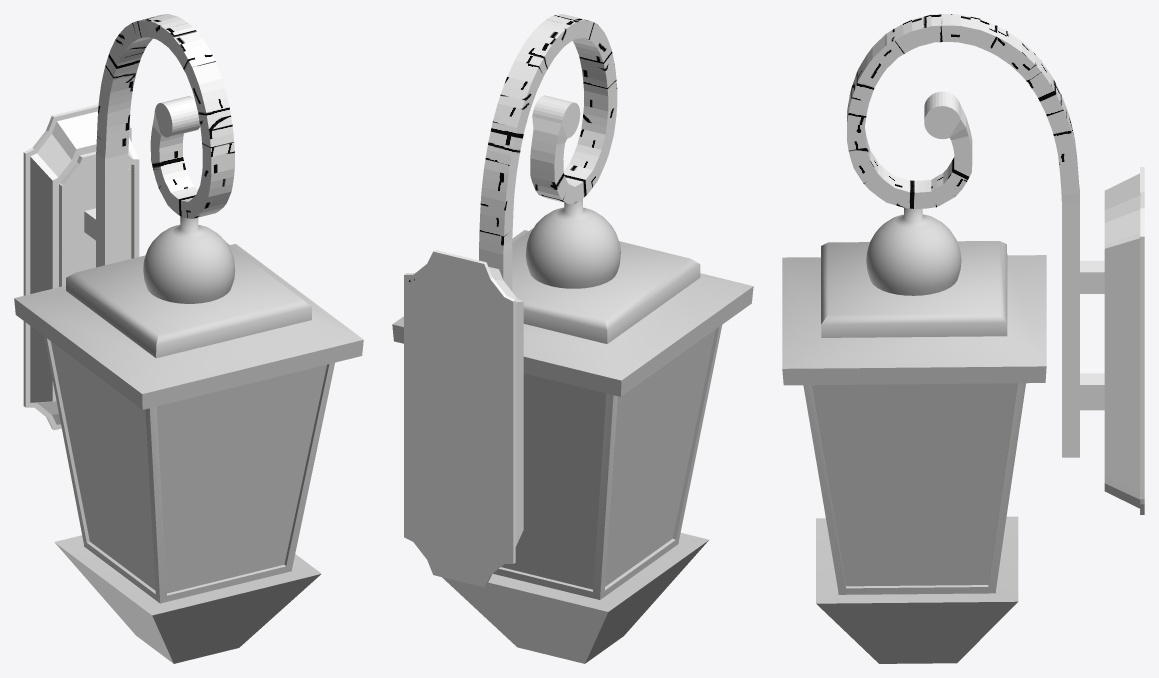
Rendered from ScuffedLamp.fbx.
3 views of the same model, side by side, from view 1: azimuth 30°, elevation 25°; view 2: azimuth 150°, elevation 25°; view 3: azimuth 270°, elevation 25° (orthographic). The views are drawn at different scales.
Visible parts, largest first — view 1: streetLamp, glassPart, Object.001; view 2: Object.001, streetLamp, glassPart; view 3: streetLamp, Object.001, glassPart.
Boxes of the visible parts, x1=… form: streetLamp: x1=14, y1=216, x2=363, y2=663; glassPart: x1=51, y1=341, x2=326, y2=593; Object.001: x1=23, y1=14, x2=234, y2=430; Object.001: x1=404, y1=14, x2=617, y2=587; streetLamp: x1=392, y1=199, x2=753, y2=663; glassPart: x1=501, y1=329, x2=715, y2=589; streetLamp: x1=782, y1=208, x2=1046, y2=663; Object.001: x1=847, y1=14, x2=1144, y2=514; glassPart: x1=811, y1=383, x2=1017, y2=586.
Size of the model in its own units: 0.3131 by 0.8203 by 0.4293.
